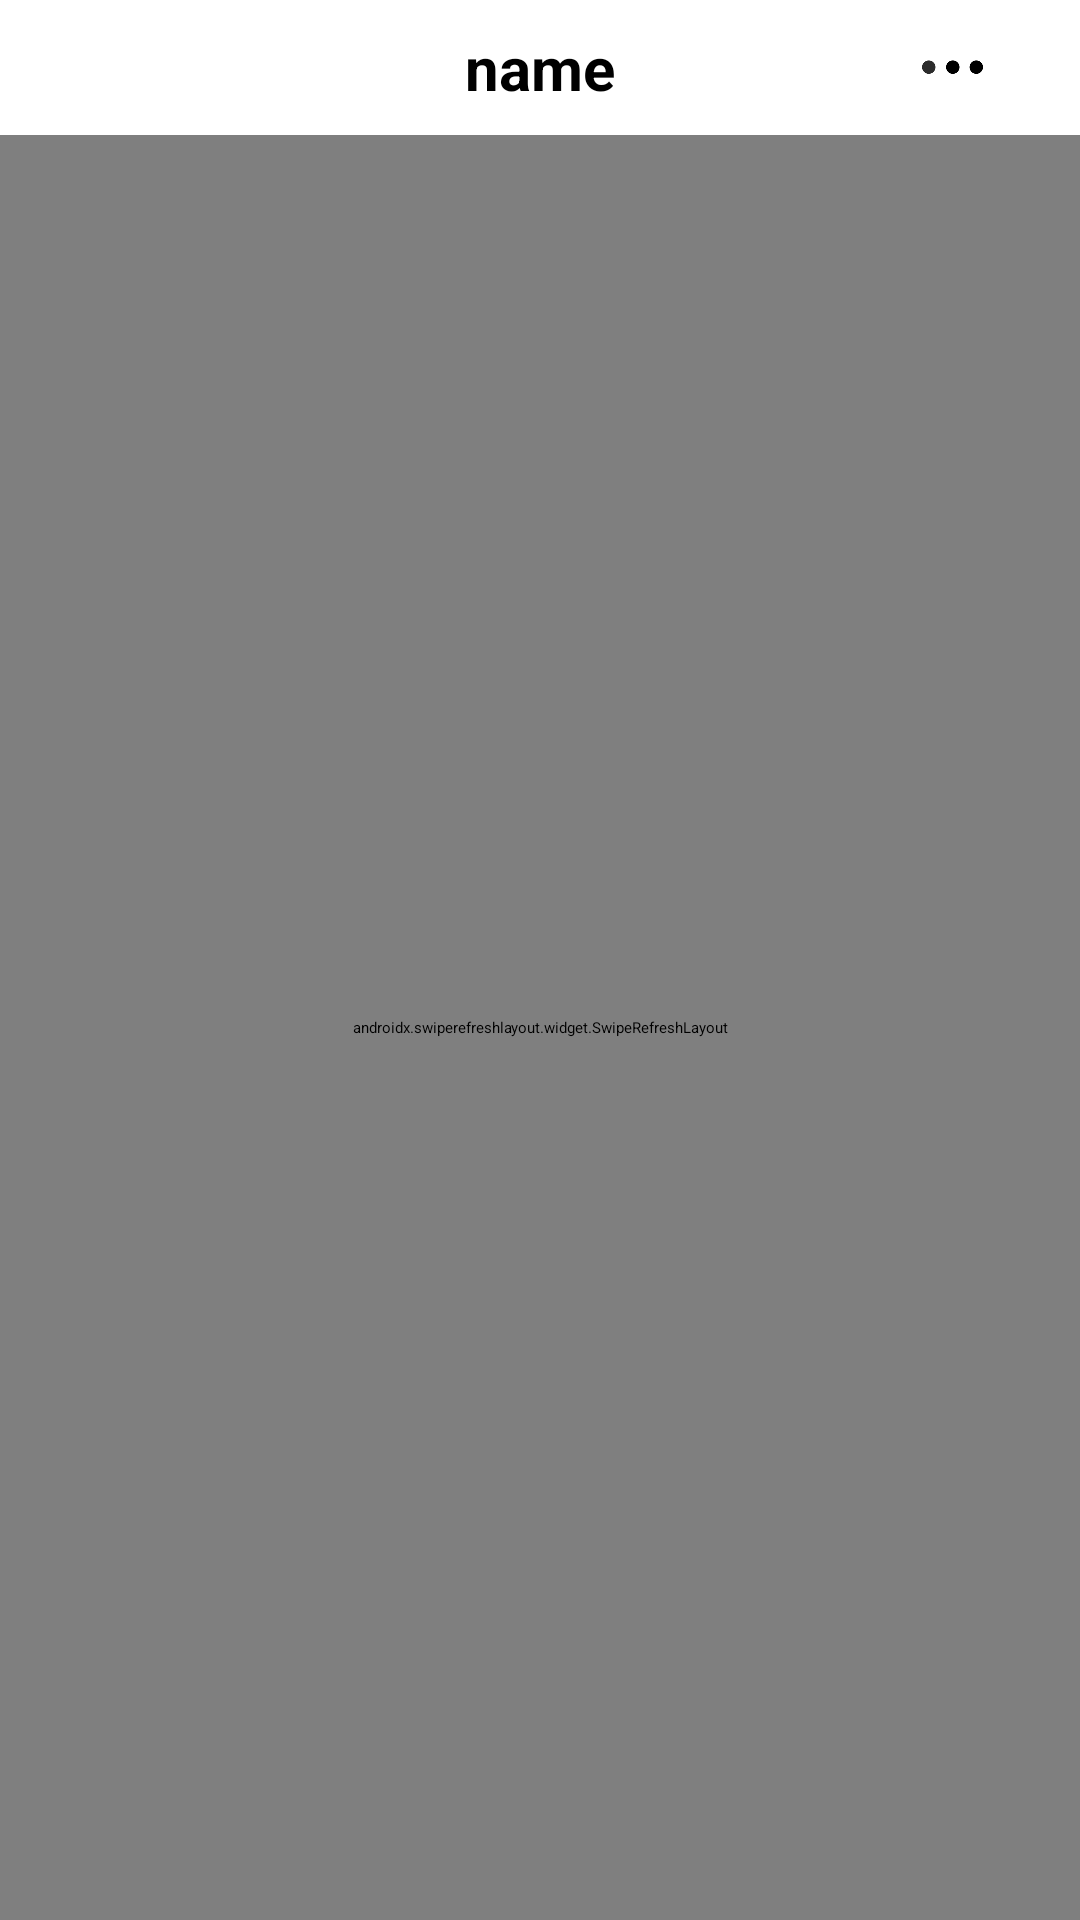

Where to tap for icons on this 1080*1920 app screen, as [x,y]:
menu: [952,67]
